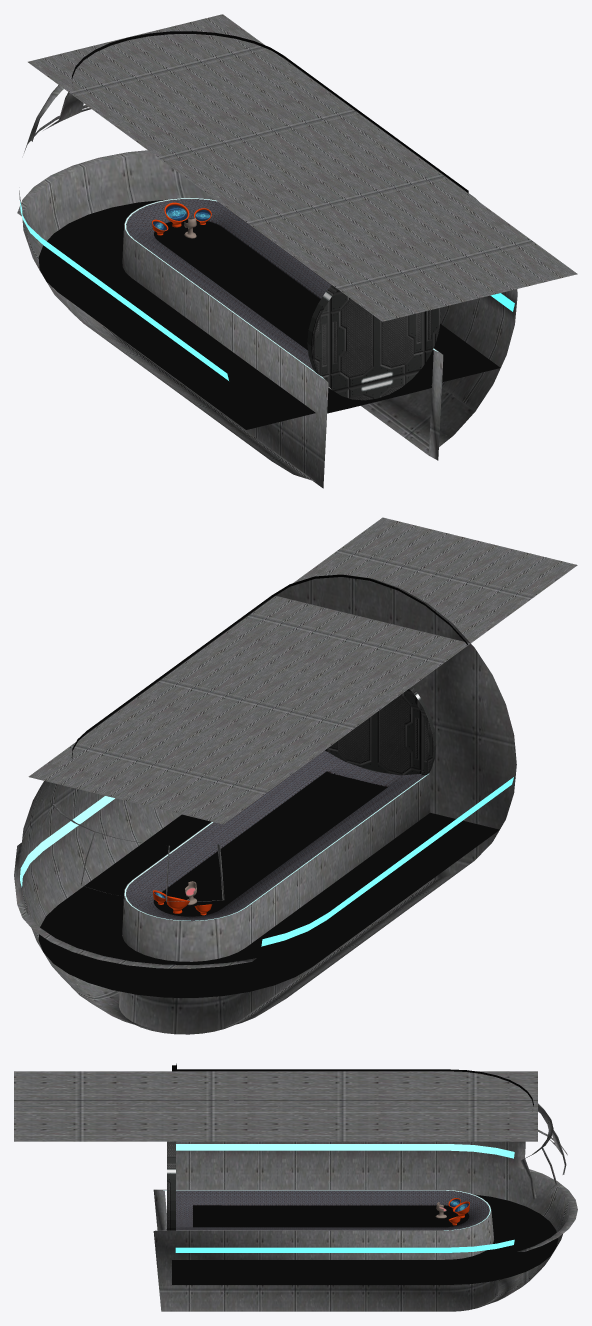
The model's file is spaceshipInterior4.glb.
The picture shows the model from 3 angles, top to bottom: view 1: azimuth 30°, elevation 25°; view 2: azimuth 150°, elevation 25°; view 3: azimuth 270°, elevation 25°; orthographic projection. The views are drawn at different scales.
Parts seen in each view (by area): view 1: Sci-Fi Space Station, Plane; view 2: Sci-Fi Space Station, Plane; view 3: Sci-Fi Space Station, Plane.
Boxes of the visible parts, left/top/right/bottom form: Sci-Fi Space Station: left=17, top=31, right=517, bottom=488; Plane: left=28, top=14, right=577, bottom=321; Sci-Fi Space Station: left=14, top=574, right=516, bottom=1034; Plane: left=28, top=517, right=577, bottom=824; Sci-Fi Space Station: left=153, top=1063, right=577, bottom=1311; Plane: left=14, top=1071, right=537, bottom=1141.
Bounding box in the file's own units: 20.08 × 20.25 × 46.08.
Materials: 11 (4 with a texture image).
